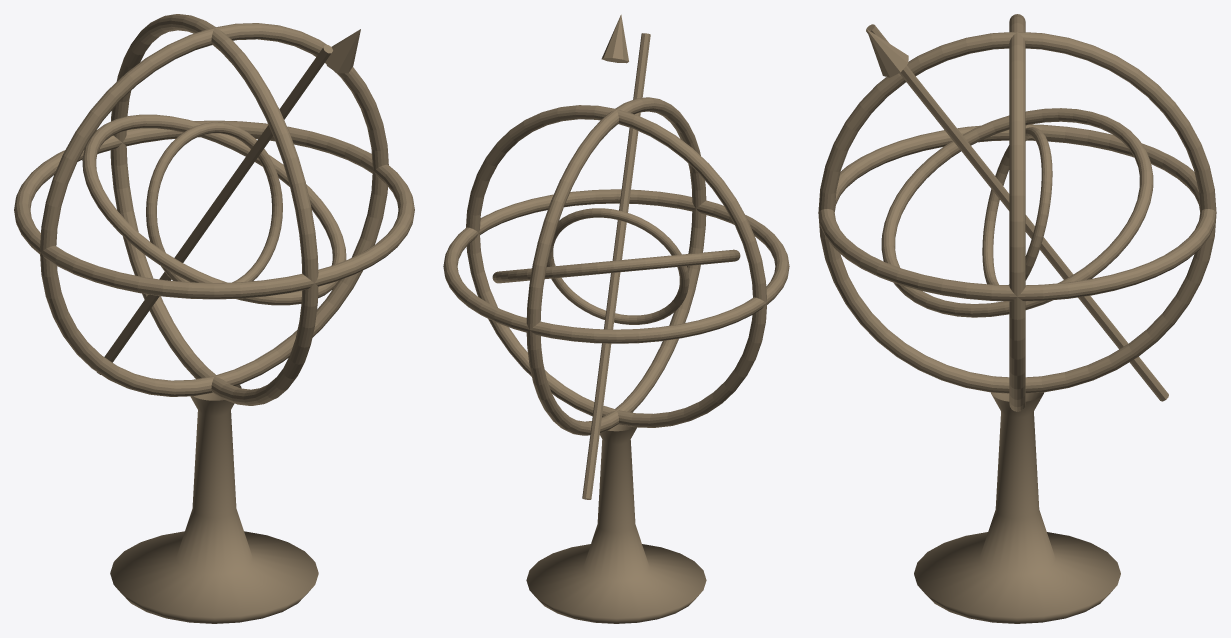
File: armillary.glb
3 views of the same model, side by side, from view 1: azimuth 30°, elevation 25°; view 2: azimuth 150°, elevation 25°; view 3: azimuth 270°, elevation 25° (orthographic). The views are drawn at different scales.
Parts seen in each view (by area): view 1: armillary; view 2: armillary; view 3: armillary.
Boxes of the visible parts, box(x1,y1,x2,y2) form: armillary: box(14, 14, 414, 623); armillary: box(443, 14, 789, 623); armillary: box(818, 14, 1216, 623).
Bounding box in the file's own units: 1.46 × 2.38 × 1.46.
